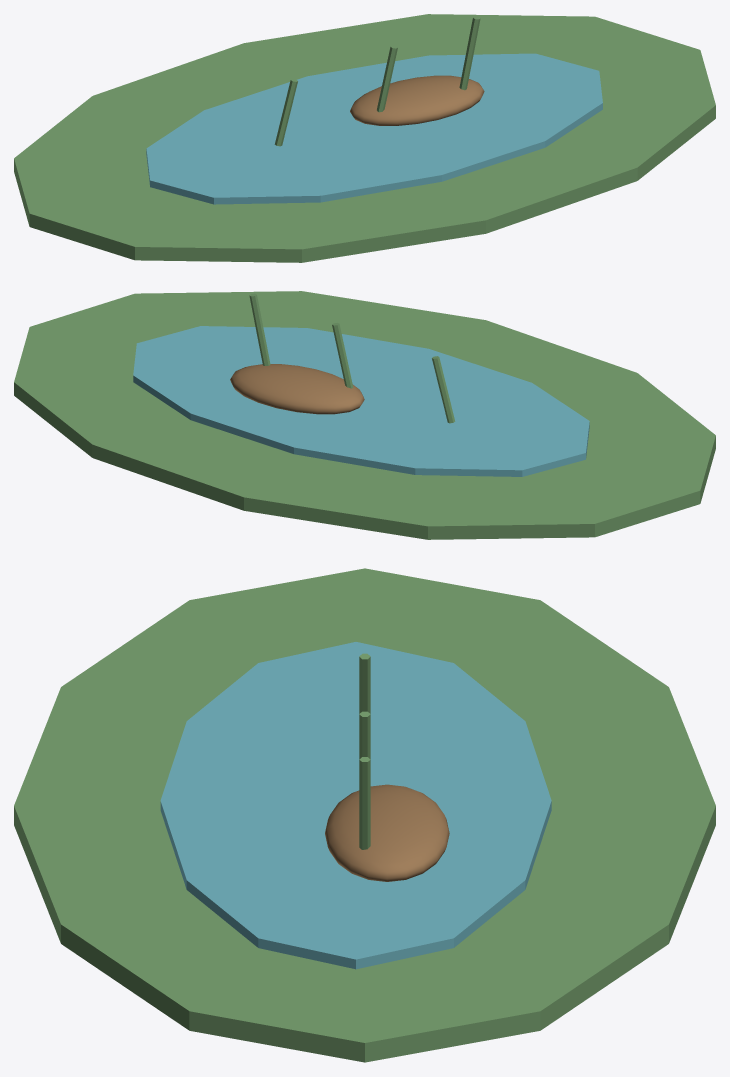
Rendered from swamp.glb.
The picture shows the model from 3 angles, top to bottom: view 1: azimuth 30°, elevation 25°; view 2: azimuth 150°, elevation 25°; view 3: azimuth 270°, elevation 25°; orthographic projection. The views are drawn at different scales.
Parts seen in each view (by area): view 1: swamp_root; view 2: swamp_root; view 3: swamp_root.
Boxes of the visible parts, left/top/right/bottom form: swamp_root: left=14, top=14, right=715, bottom=262; swamp_root: left=14, top=291, right=715, bottom=539; swamp_root: left=14, top=568, right=715, bottom=1062.
Size of the model in its own units: 7 by 1 by 4.38.
